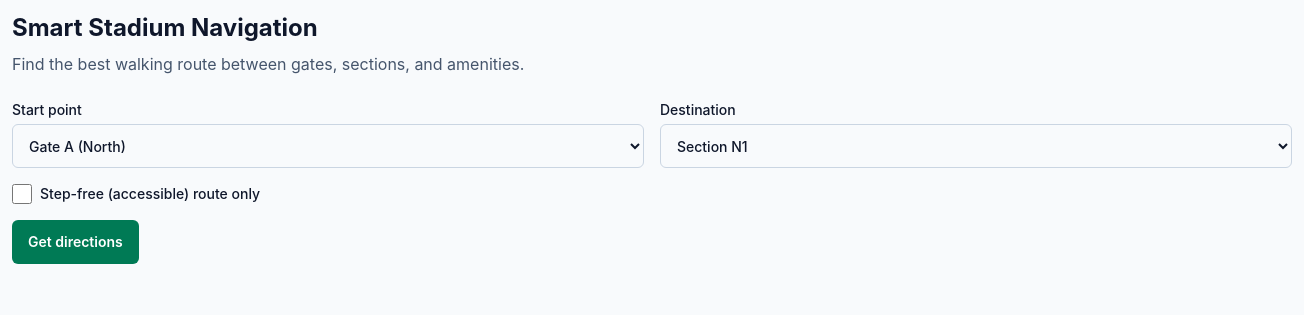
Test case: NavigationPlanner › shows a no-route message on a 422 response
Click the button "Get directions". click: (75,242)
box: x1=12 y1=220 x2=139 y2=264
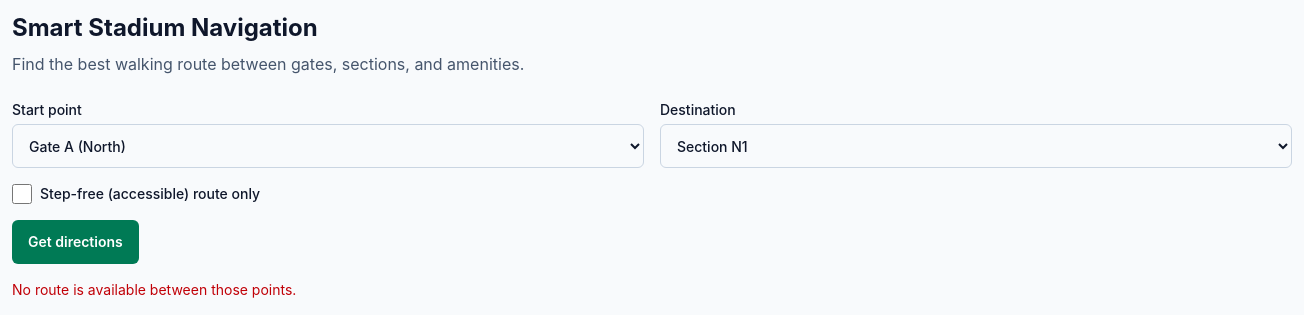
Result: the message shows "No route is available" at x1=12 y1=281 x2=296 y2=298
